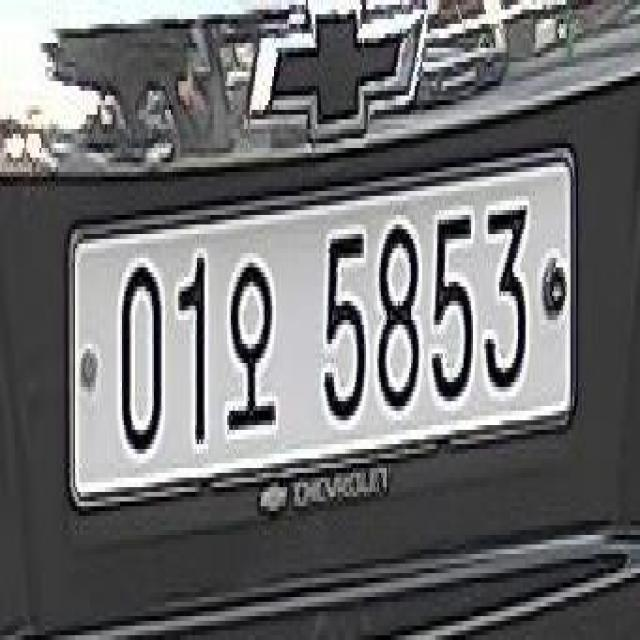illegal_plate: (65, 144, 584, 535)
